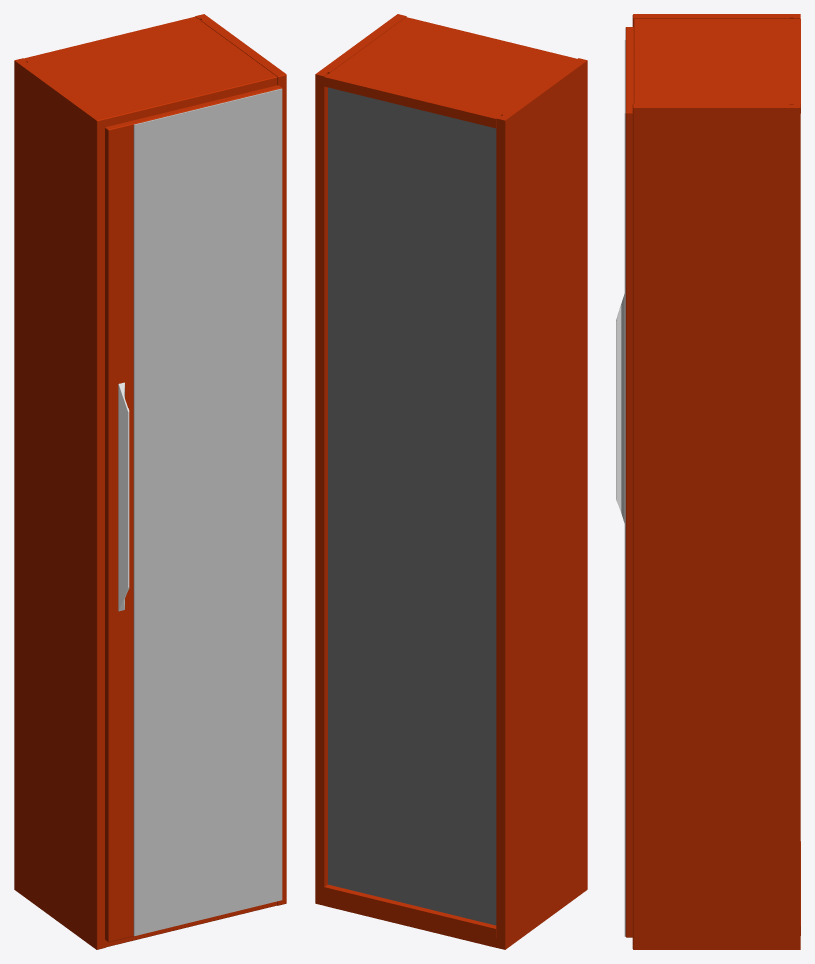
The model's file is NYH219P40L048.fbx.
3 views of the same model, side by side, from view 1: azimuth 30°, elevation 25°; view 2: azimuth 150°, elevation 25°; view 3: azimuth 270°, elevation 25° (orthographic).
Visible parts, largest first — view 1: Body3 (×2), Body1 (×3), Body6, Body2; view 2: Body2, Body1 (×3), Body6, Body5; view 3: Body1 (×3), Body6, Body2, Body3.
Boxes of the visible parts, box(x1,y1,x2,y2) form: Body3 (×2): box(105, 88, 282, 947); Body1 (×3): box(14, 14, 286, 949); Body6: box(24, 16, 277, 126); Body2: box(118, 382, 129, 611); Body2: box(328, 87, 496, 925); Body1 (×3): box(315, 14, 587, 949); Body6: box(324, 17, 576, 128); Body5: box(324, 884, 496, 938); Body1 (×3): box(625, 14, 800, 949); Body6: box(634, 19, 800, 113); Body2: box(616, 294, 624, 522); Body3: box(624, 40, 625, 936).
Size of the model in its own units: 525 by 2190 by 436.
